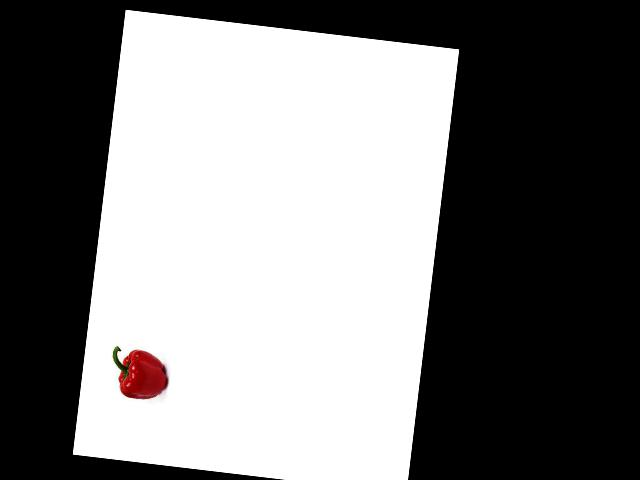bell_pepper: (106, 343, 171, 406)
